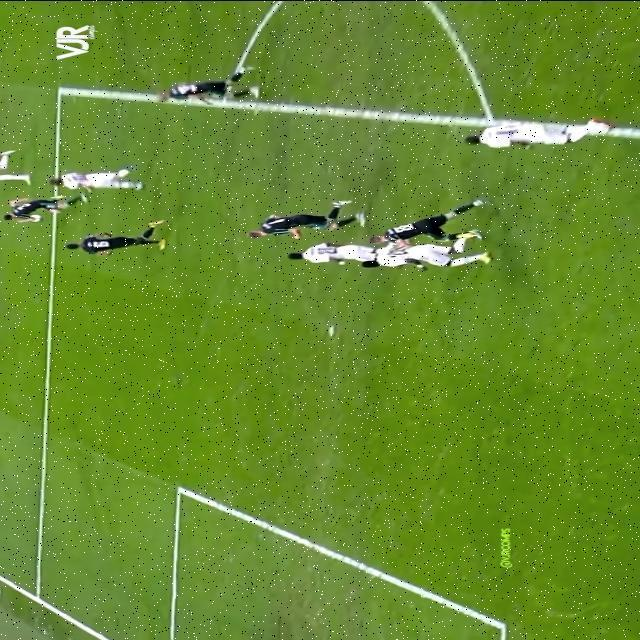player: (463, 109, 618, 165), (54, 215, 205, 265), (1, 174, 123, 233), (372, 201, 507, 246), (365, 232, 513, 268), (243, 200, 365, 241), (132, 74, 282, 100), (277, 243, 359, 277), (43, 170, 167, 187)
